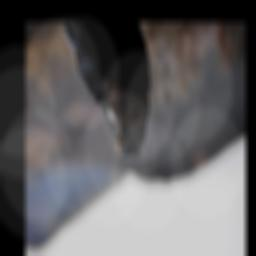Crow: (59, 22, 152, 164)
